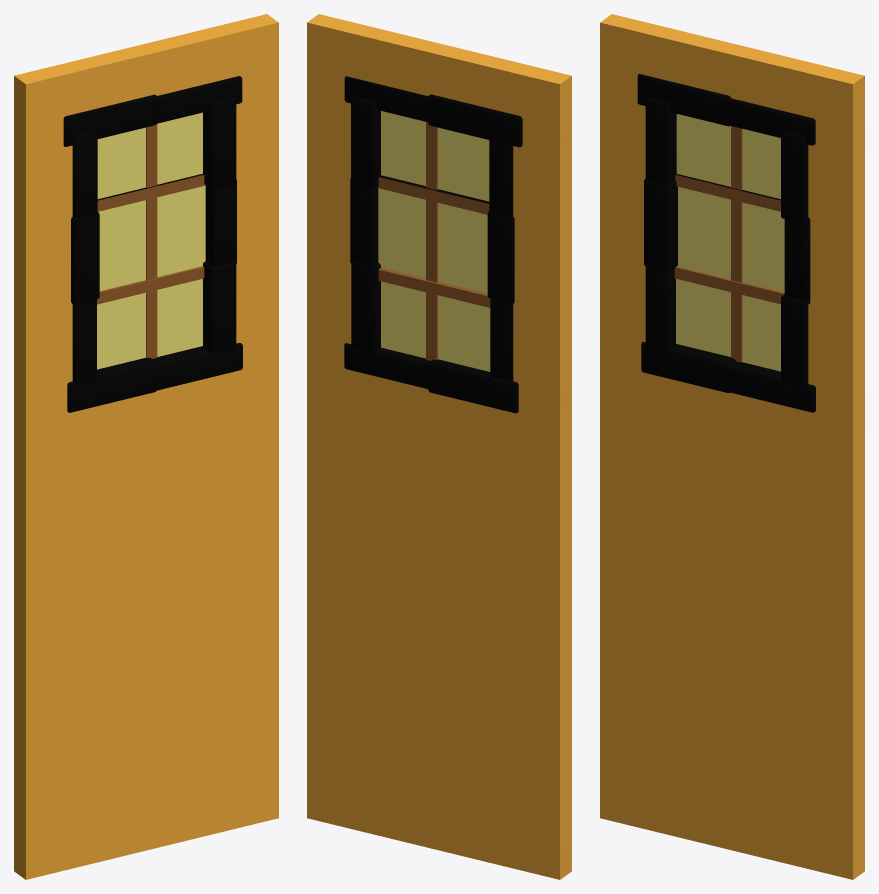
The model's file is Wall H 1.fbx.
3 views of the same model, side by side, from view 1: azimuth 30°, elevation 25°; view 2: azimuth 150°, elevation 25°; view 3: azimuth 330°, elevation 25° (orthographic).
Visible parts, largest first — view 1: Wall H 1; view 2: Wall H 1; view 3: Wall H 1.
Part boxes in pixels (x1,y1,x2,y2): Wall H 1: [14, 14, 278, 879]; Wall H 1: [307, 14, 571, 879]; Wall H 1: [600, 14, 864, 879].
Size of the model in its own units: 249 by 747 by 28.48.
Materials: 1 (1 with a texture image).
